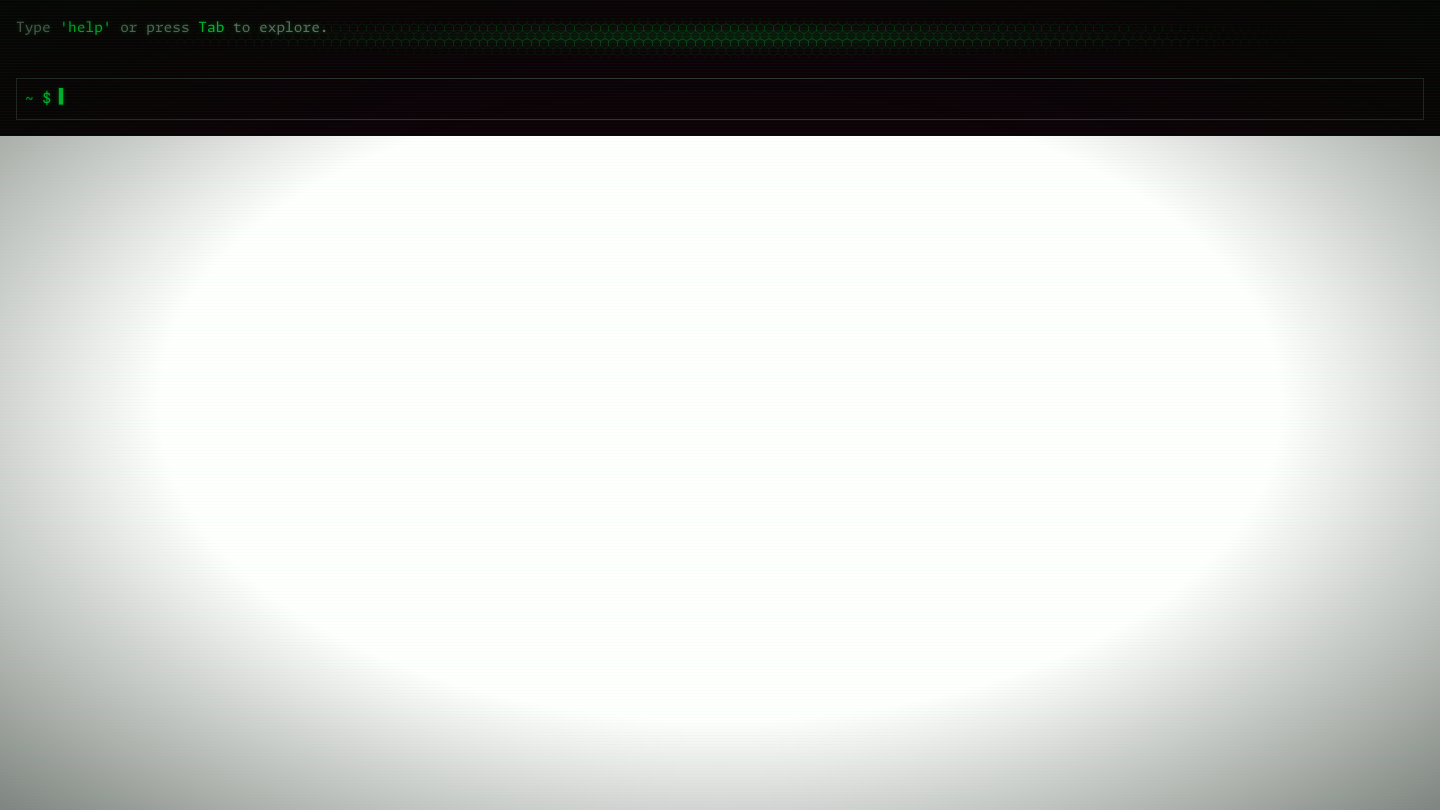
it: Terminal › shows error for unknown command
Type "foobar" into the field at (737, 100), box [59, 90, 1415, 110]
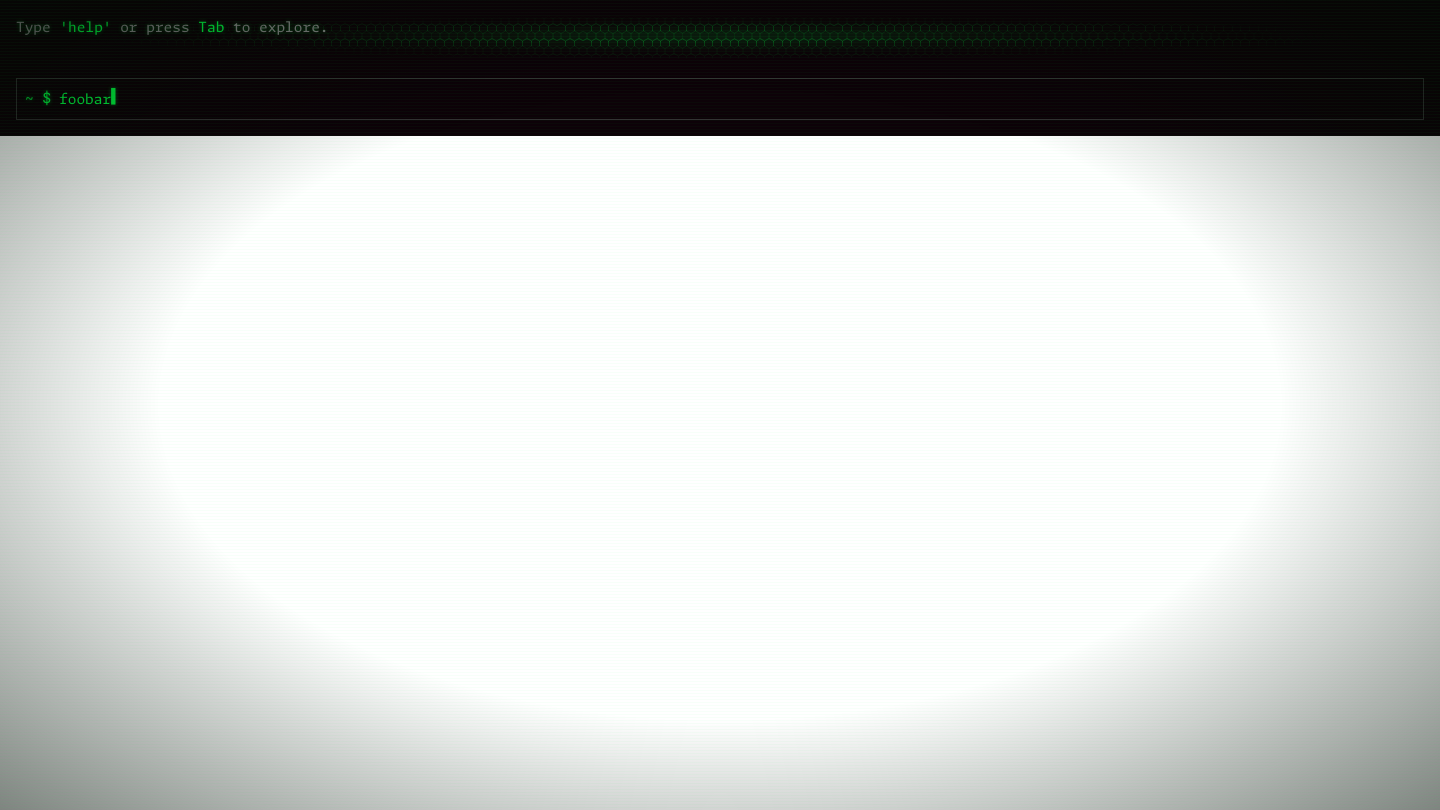
Press Enter in the field, box [59, 90, 1415, 110]
Wait 600 ms
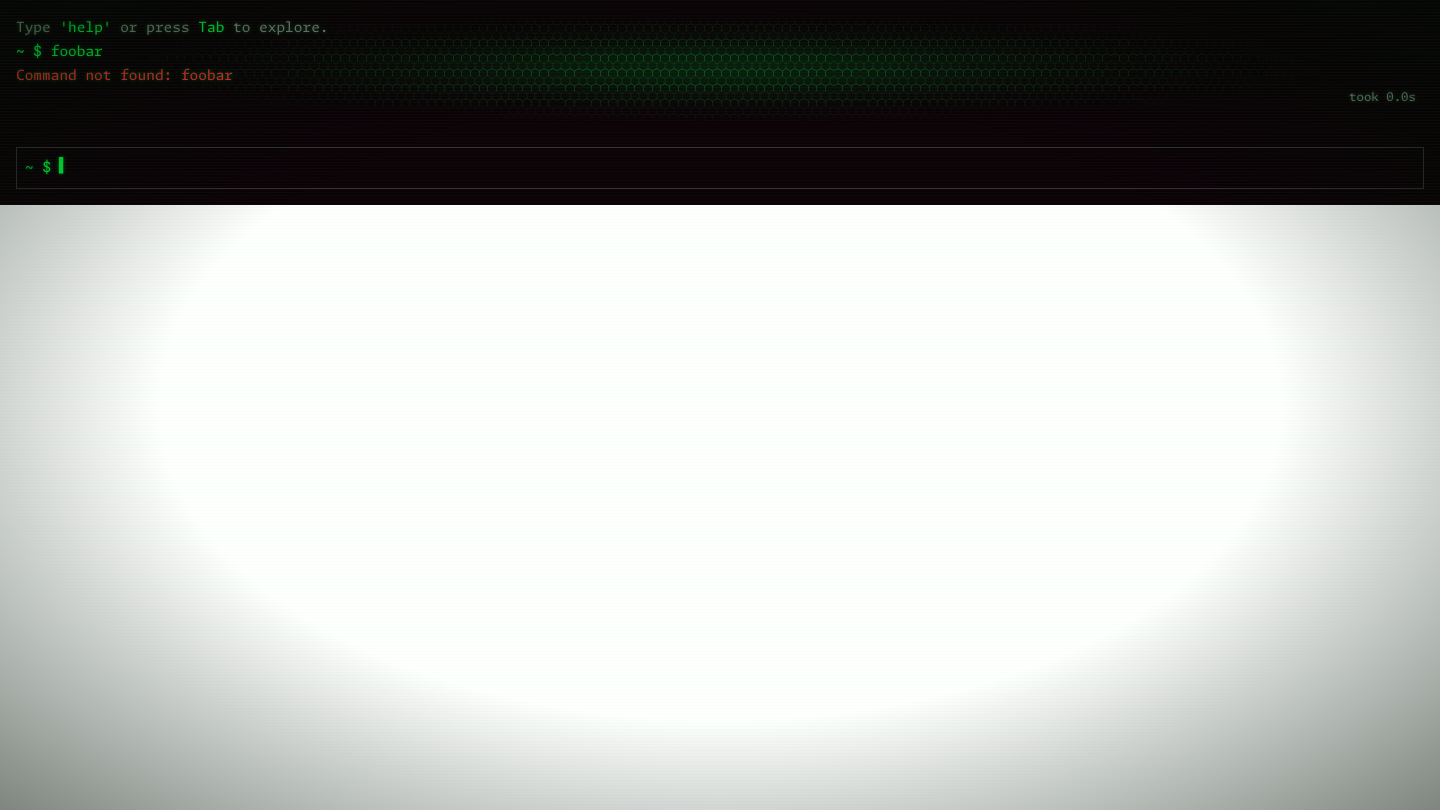
Expected: the text "Command not found: foobar" is shown, [16, 69, 233, 83]
